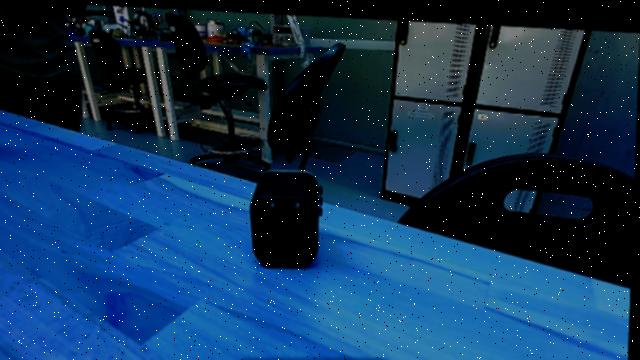adapter: (248, 162, 328, 272)
